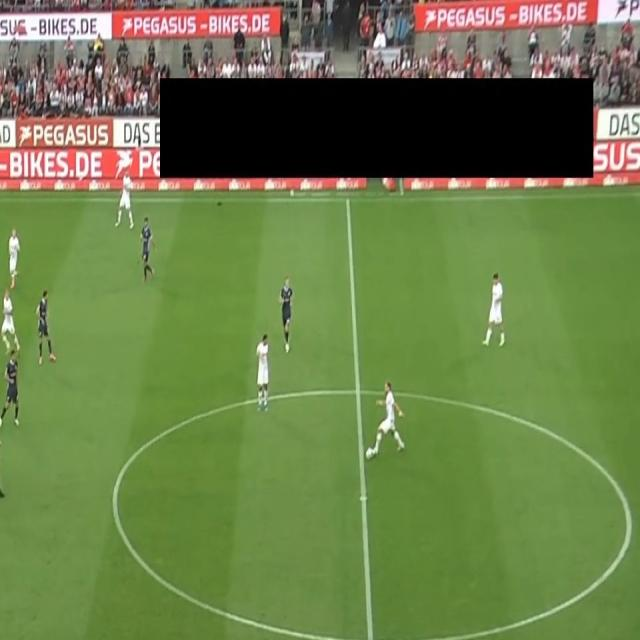ball: (365, 444, 373, 462)
